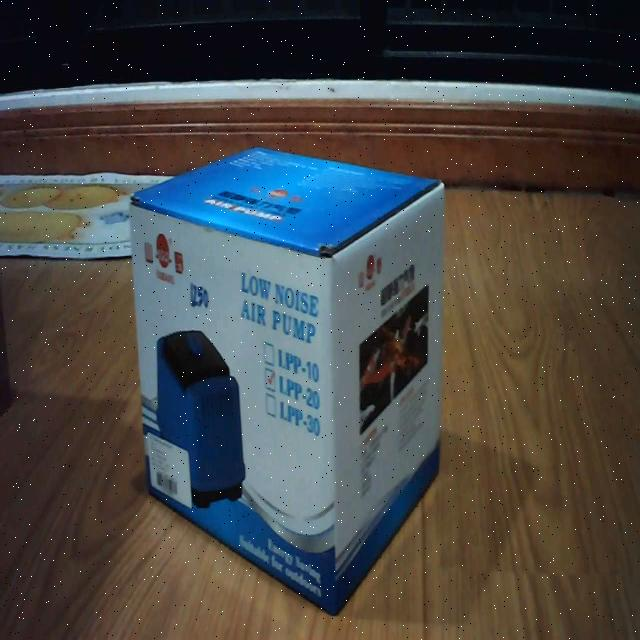YAMANO_LPP_20: (122, 132, 468, 620)
